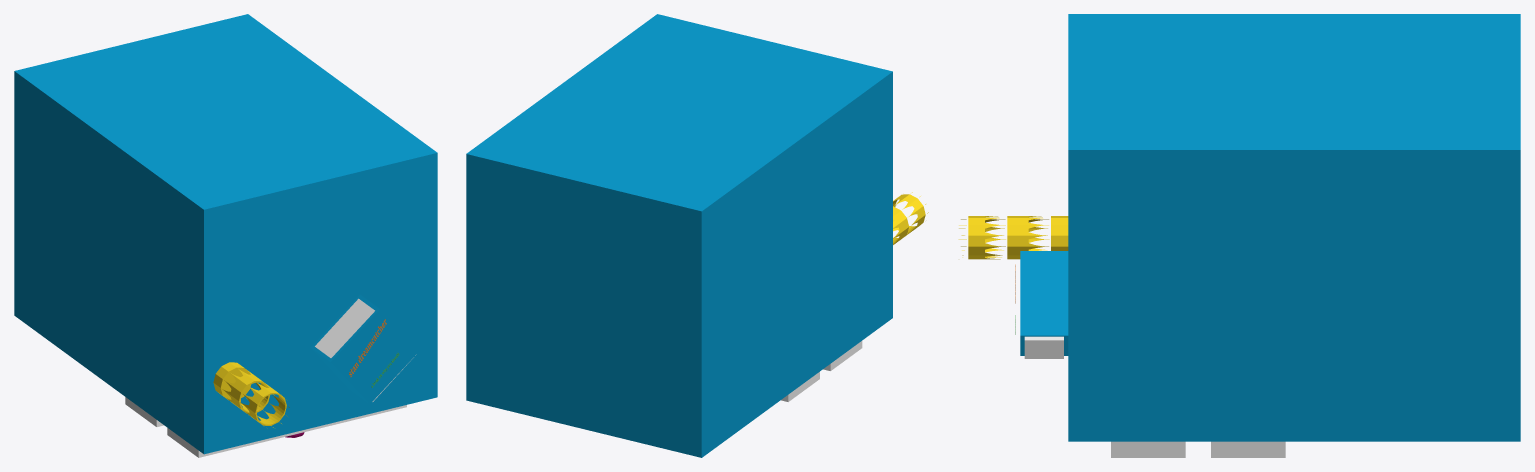
File: tinker.obj
3 views of the same model, side by side, from view 1: azimuth 30°, elevation 25°; view 2: azimuth 150°, elevation 25°; view 3: azimuth 270°, elevation 25° (orthographic). The views are drawn at different scales.
Parts seen in each view (by area): view 1: group_0_40919, group_0_16448250, group_0_16768282; view 2: group_0_40919, group_0_16768282, group_0_16448250; view 3: group_0_40919, group_0_16448250, group_0_16768282.
Boxes of the visible parts, box(x1,y1,x2,y2) form: group_0_40919: box(14, 14, 437, 454); group_0_16448250: box(125, 298, 416, 457); group_0_16768282: box(213, 362, 289, 427); group_0_40919: box(466, 14, 892, 457); group_0_16768282: box(893, 192, 928, 244); group_0_16448250: box(781, 341, 862, 401); group_0_40919: box(1020, 14, 1520, 441); group_0_16448250: box(1024, 336, 1285, 457); group_0_16768282: box(958, 216, 1068, 259).
Bounding box in the file's own units: 74 × 84 × 129.
